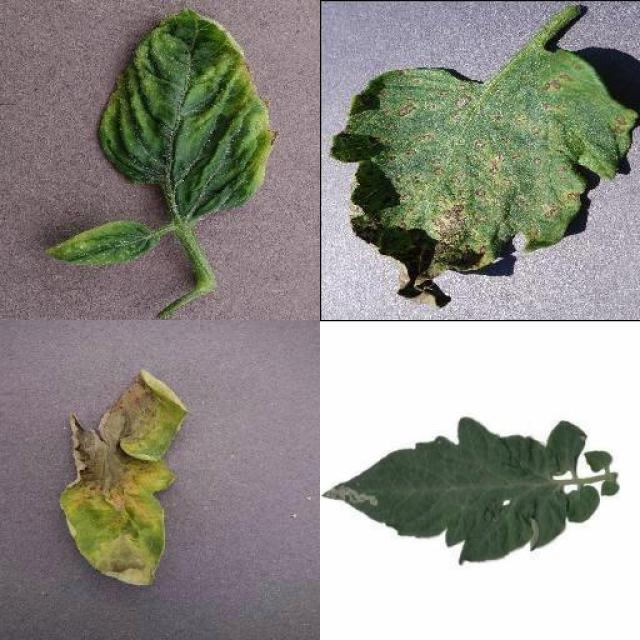Late Blight: (58, 369, 190, 589)
Septoria: (330, 46, 634, 309)
